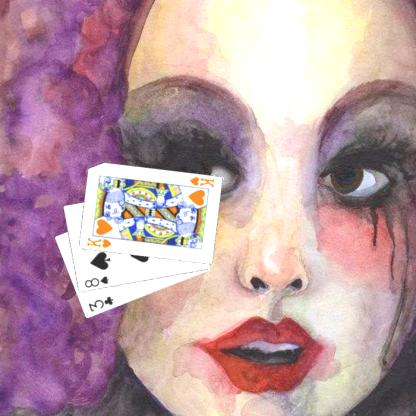3C: (86, 294, 115, 313)
8S: (81, 273, 110, 289)
KH: (84, 235, 112, 250), (187, 175, 215, 189)
